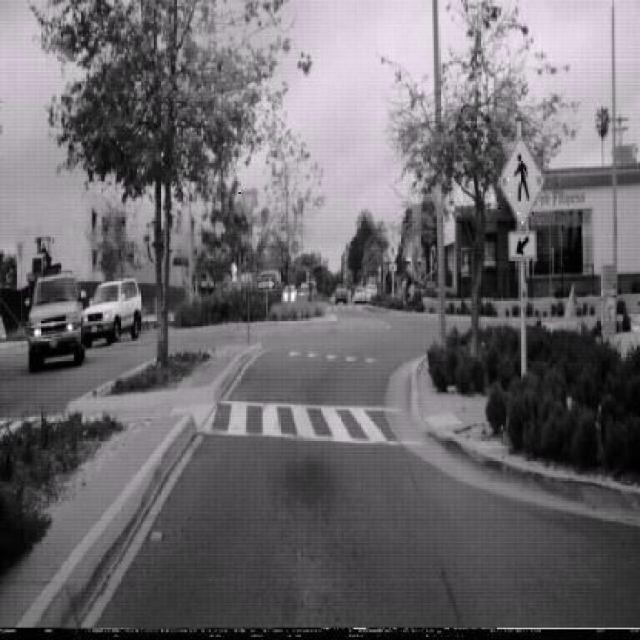pedestrianCrossing: (498, 132, 546, 228), (386, 240, 399, 265)
yield: (239, 186, 258, 224)
